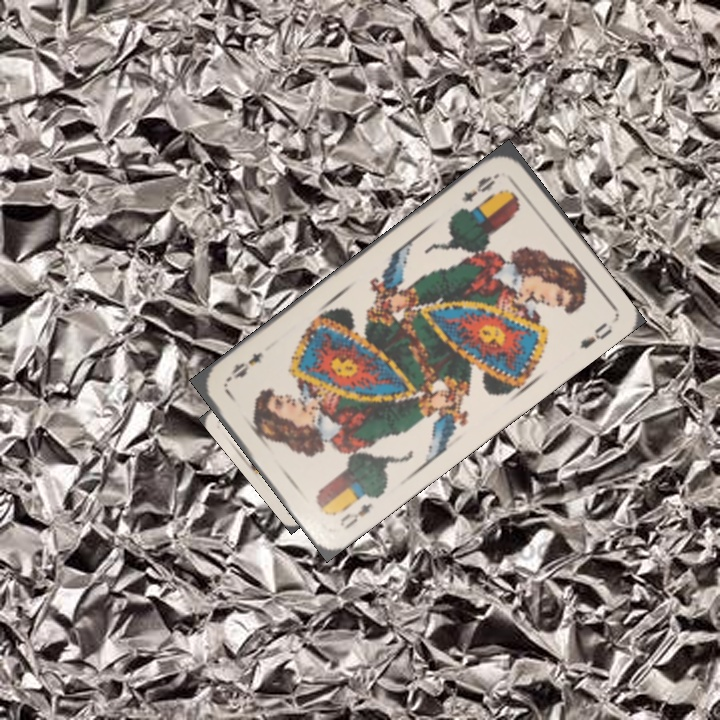EO: (457, 168, 502, 205), (336, 498, 375, 532)
